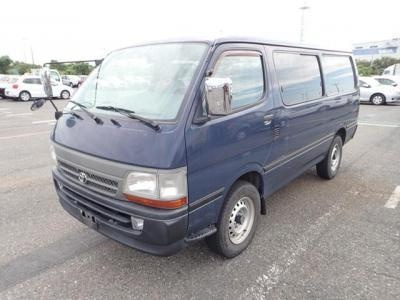van: (49, 36, 360, 256)
